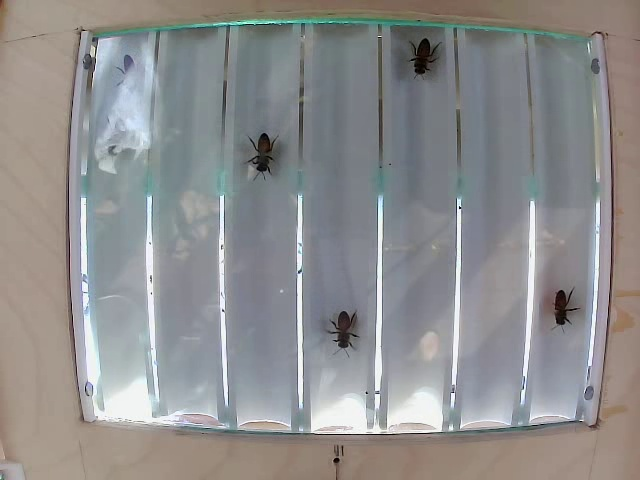bee: (318, 309, 364, 364), (235, 132, 282, 179), (403, 36, 445, 76), (542, 281, 574, 329), (111, 60, 145, 94)
